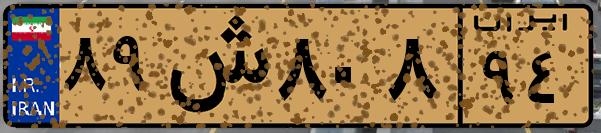0: (330, 28, 385, 110)
4: (525, 38, 570, 115)
8: (270, 28, 330, 110), (385, 28, 445, 110), (57, 26, 110, 100)
9: (475, 38, 525, 113), (110, 28, 158, 98)
ش: (158, 12, 270, 120)
